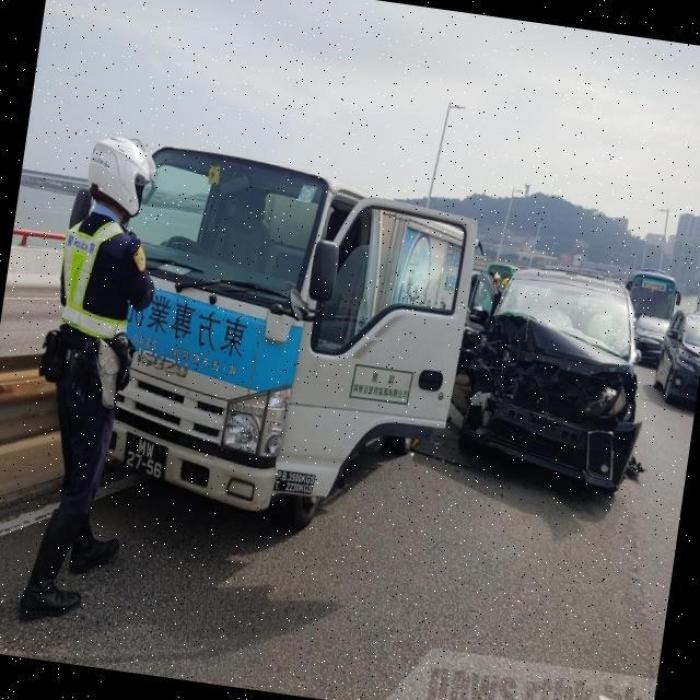Accident: (391, 227, 687, 538)
